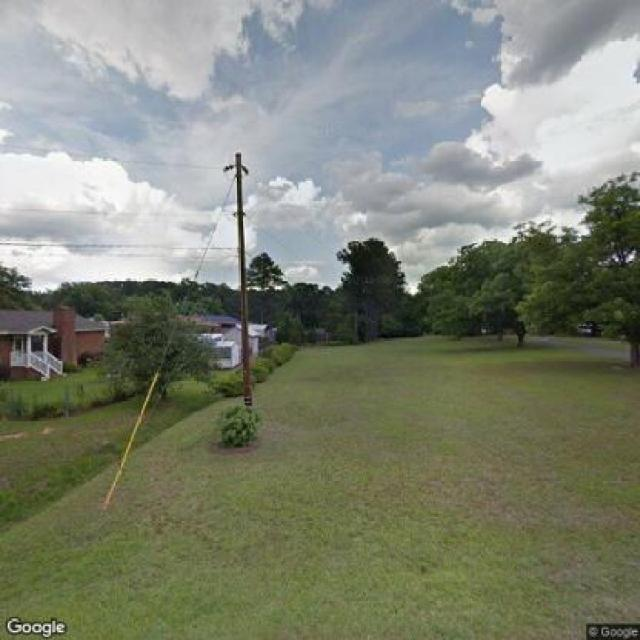light_pole: (212, 146, 274, 402)
